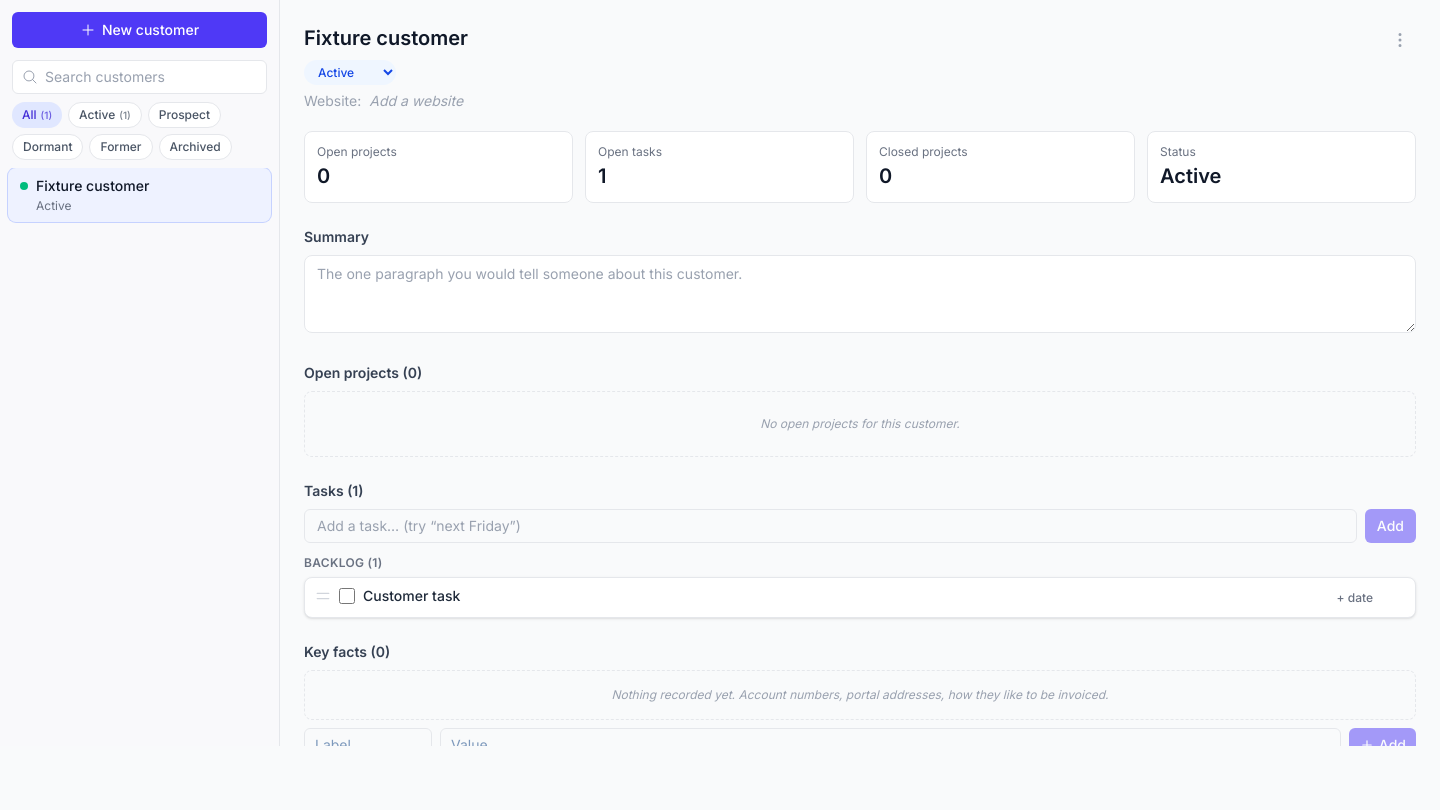
it: deletes from the drawer with server failure=true
The image size is (1440, 810).
Click the button "Customer task" at (412, 596), box [363,586,1322,605]
(page scrolled)
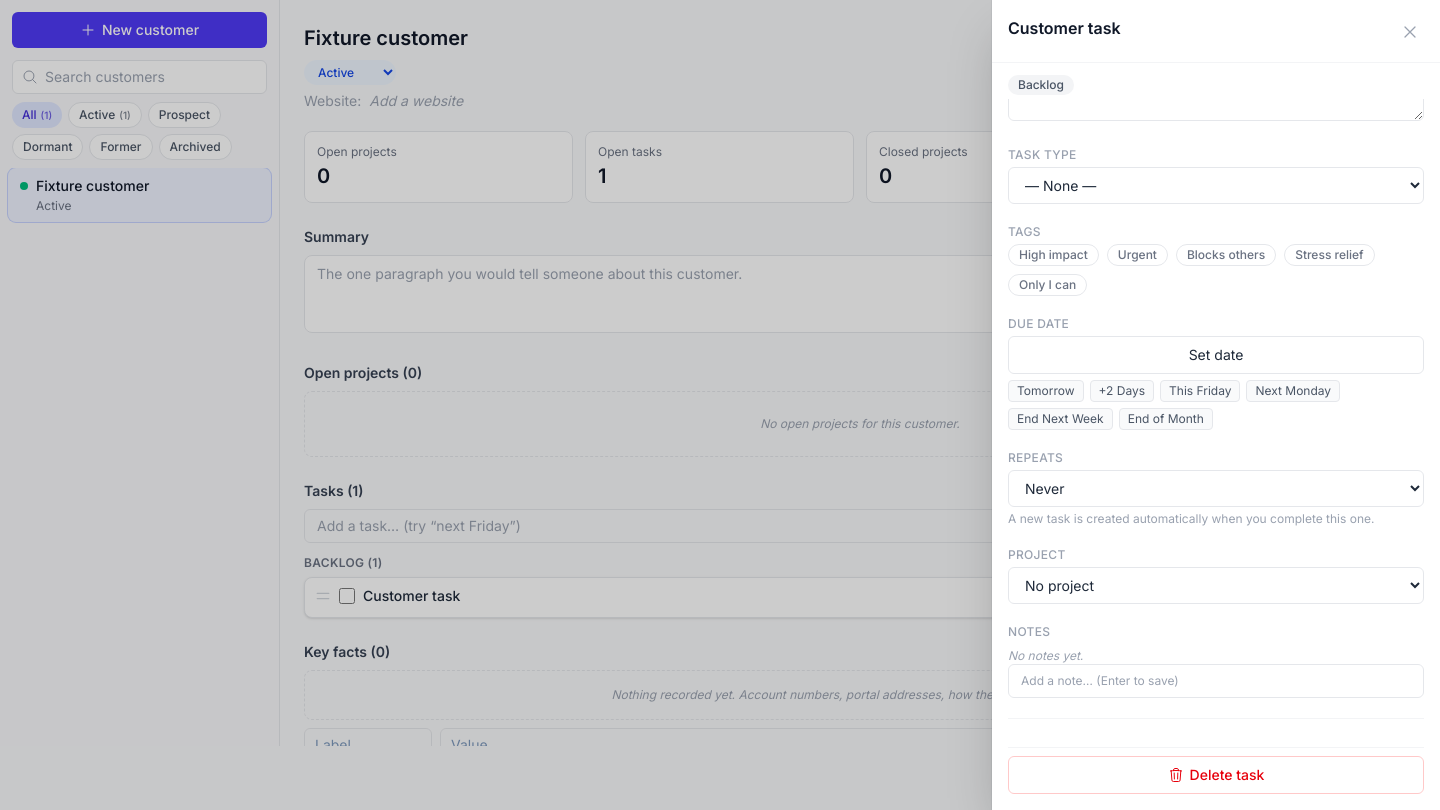
Click the button "Delete task" at (1216, 775), box [1008,756,1424,794]
(page scrolled)
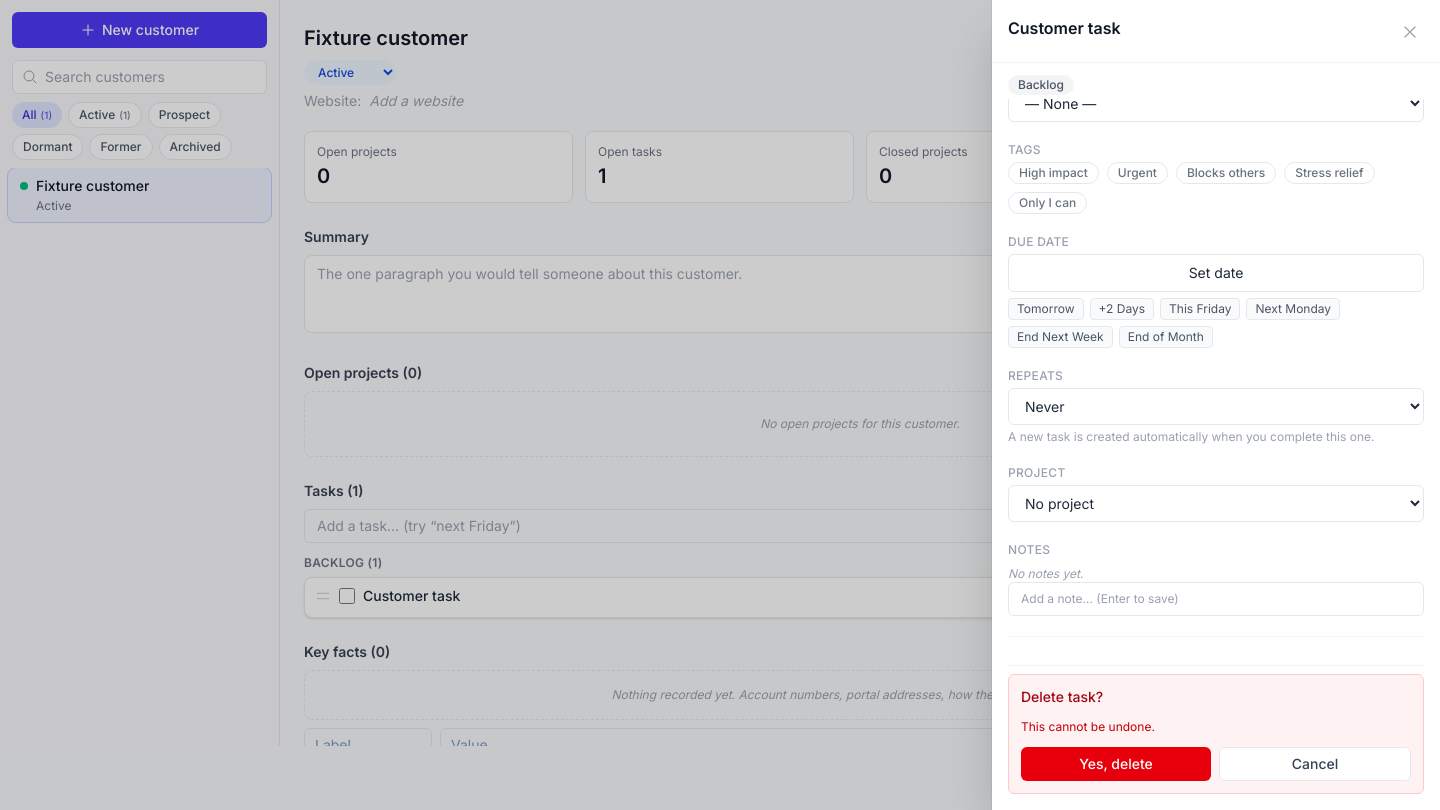
Click the button "Yes, delete" at (1116, 764), box [1021,747,1211,781]
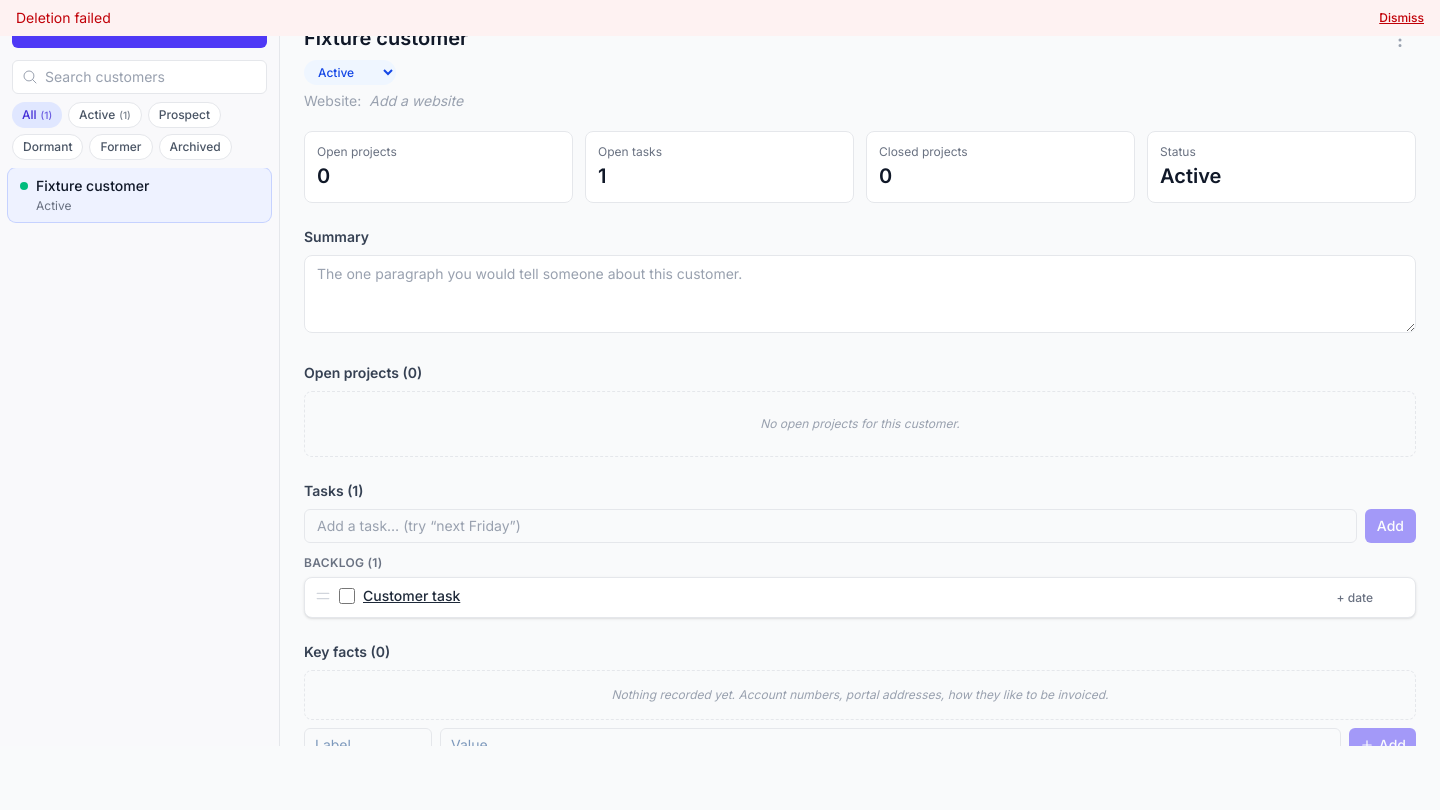
Expected: the button "Customer task" is shown, [363,586,1322,605]
Expected: the text "Deletion failed" is shown, [16,8,111,28]
